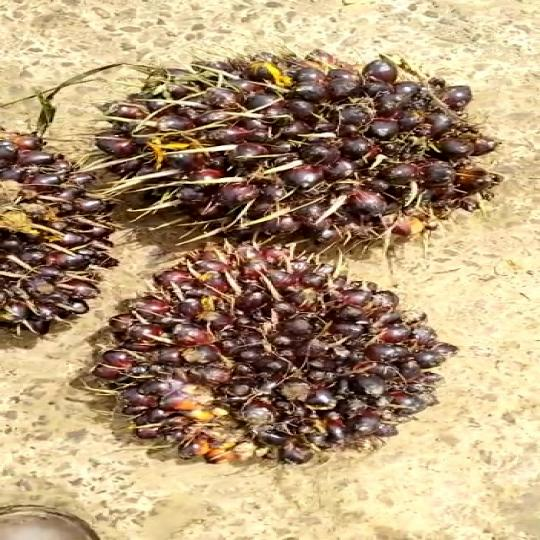kurang masak: (66, 241, 474, 478), (87, 50, 512, 262)
